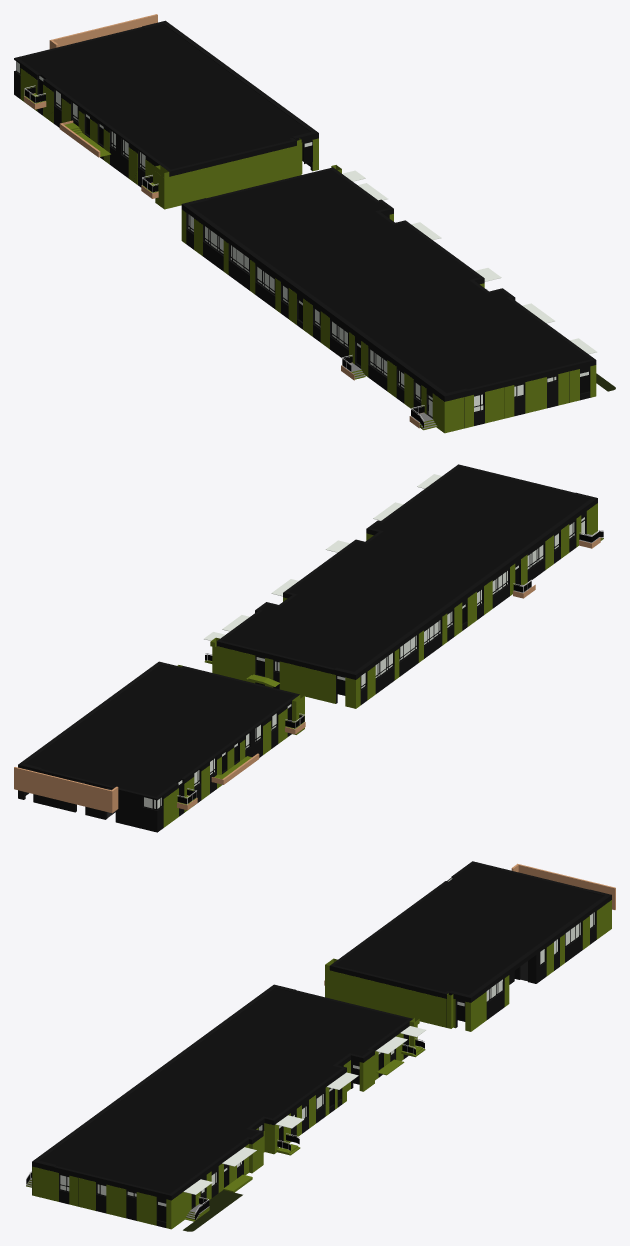
The model's file is floor_1.FBX.
The picture shows the model from 3 angles, top to bottom: view 1: azimuth 30°, elevation 25°; view 2: azimuth 150°, elevation 25°; view 3: azimuth 330°, elevation 25°; orthographic projection. The views are drawn at different scales.
Visible parts, largest first — view 1: floor_1; view 2: floor_1; view 3: floor_1.
Part boxes in pixels (left/top/right/bottom): floor_1: left=14, top=14, right=615, bottom=433; floor_1: left=14, top=464, right=603, bottom=832; floor_1: left=26, top=861, right=615, bottom=1231.
Size of the model in its own units: 27.01 by 5.42 by 109.
